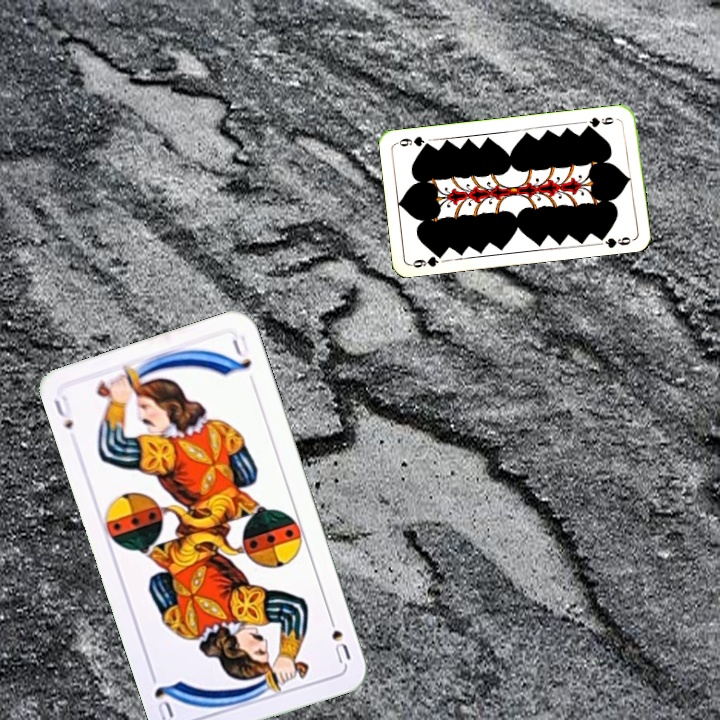G9: (407, 249, 447, 270), (581, 113, 616, 131)
SU: (323, 609, 354, 667), (50, 391, 76, 433)
